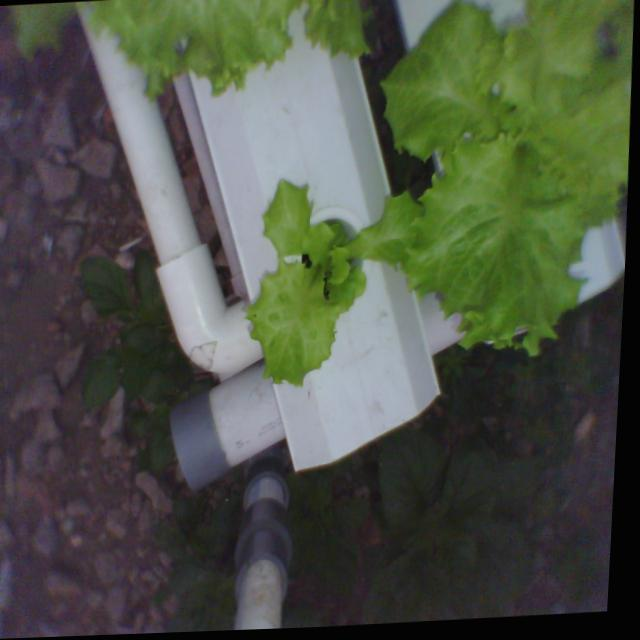FN: (361, 0, 640, 373), (230, 163, 428, 400)
